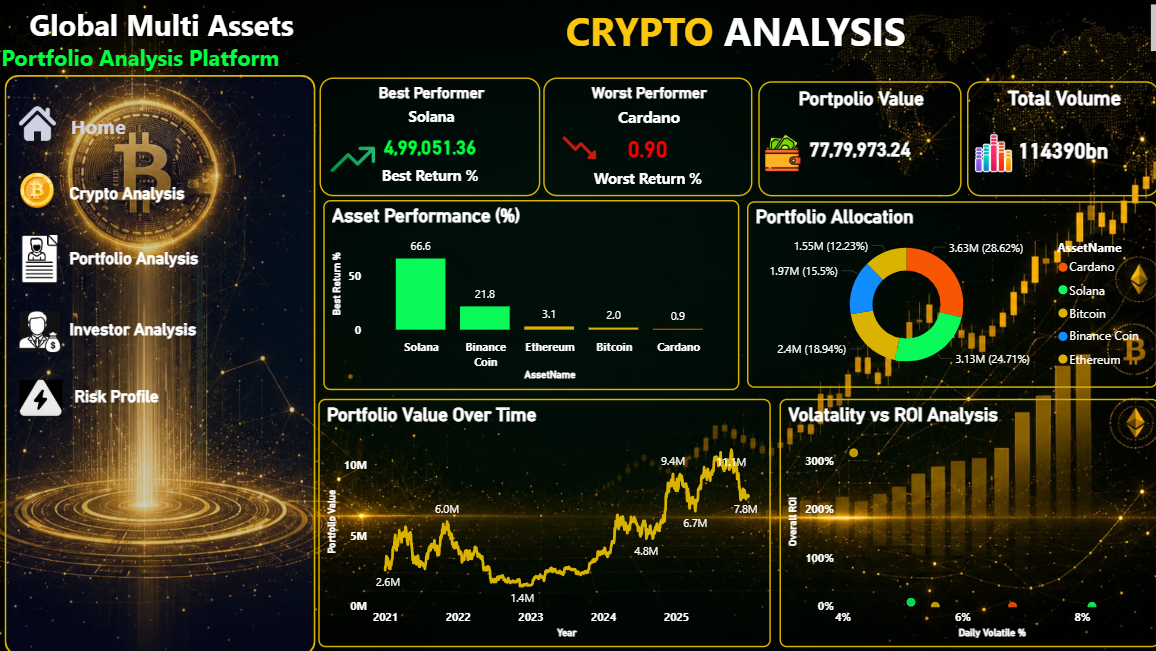

What the dashboard file says about the page in this screenshot:
{"tool":"powerbi","page":{"name":"Crypto Analysis ","canvas":[1280,720],"ordinal":2},"visuals":[{"type":"textbox","box":[0,0,370.4,115.8],"z":0},{"type":"image","box":[25.3,187,38.6,44.6],"z":0,"group":"g1"},{"type":"actionButton","title":"Portfolio Analysis","box":[80.8,273.9,159.3,24.1],"z":0,"group":"g2"},{"type":"actionButton","title":"Investor Analysis","box":[80.8,351.1,167.7,29],"z":0,"group":"g3"},{"type":"actionButton","title":"Risk Profile","box":[85.6,423.5,100.1,24.1],"z":0,"group":"g4"},{"type":"card","title":"Best Performer","fields":{"Values":["Measure.Best Return %"]},"box":[354,85.1,178.4,134.5],"z":1000,"group":"g5"},{"type":"image","box":[19.2,115.3,50.8,41.2],"z":1000},{"type":"actionButton","title":"Crypto Analysis","box":[80.8,201.5,127.9,29],"z":1000,"group":"g1"},{"type":"image","box":[25.3,258.2,44.6,53.1],"z":1000,"group":"g2"},{"type":"image","box":[25.3,331.8,44.6,63.9],"z":1000,"group":"g3"},{"type":"image","box":[25.3,409,47.1,56.7],"z":1000,"group":"g4"},{"type":"actionButton","box":[53.5,119.4,115.3,37],"z":2000},{"type":"shape","box":[8.4,83,341.4,637],"z":3000},{"type":"card","title":"Worst Performer","fields":{"Values":["Measure.Worst Return %"]},"box":[536.5,87.8,172.9,130.4],"z":3000,"group":"g5"},{"type":"group","id":"g1","title":"Group 1","box":[25.3,187,183.4,44.6],"z":4000},{"type":"card","title":"Portpolio Value","fields":{"Values":["Measure.Portfolio Value"]},"box":[714.9,87.8,189.4,127.6],"z":5000,"group":"g5"},{"type":"group","id":"g2","title":"Group 2","box":[25.3,258.2,214.7,53.1],"z":5000},{"type":"card","title":"Total Volume","fields":{"Values":["Measure.Total Crypto Volume"]},"box":[909.7,87.8,181.1,127.6],"z":6000,"group":"g5"},{"type":"group","id":"g3","title":"Group 4","box":[25.3,331.8,223.2,63.9],"z":6000},{"type":"group","id":"g4","title":"Group 5","box":[25.3,409,160.5,56.7],"z":7000},{"type":"textbox","box":[349.9,0,930.2,63.9],"z":8000},{"type":"image","box":[358.1,160.5,28.8,41.2],"z":9000},{"type":"image","box":[536.5,138.6,50.8,43.9],"z":10000},{"type":"image","box":[912.5,150.9,45.3,34.3],"z":11000},{"type":"image","box":[724.5,148.2,32.9,34.3],"z":12000},{"type":"image","box":[1122.5,149.6,38.4,37],"z":13000},{"type":"group","id":"g5","title":"Group 3","box":[354,85.1,922.1,134.5],"z":14000},{"type":"group","id":"g6","title":"Group 6","box":[354,223.7,916.6,241.5],"z":15000},{"type":"columnChart","title":"Asset Performance(%)","fields":{"Y":["Measure.Return %"],"Category":["Dim_Assets.AssetName"]},"box":[354,223.7,451.5,241.5],"z":15000,"group":"g6"},{"type":"donutChart","title":"Portfolio Allocation","fields":{"Category":["Dim_Assets.AssetName"],"Y":["Measure.Total Investment"]},"box":[812.3,225.1,458.3,238.8],"z":16000,"group":"g6"},{"type":"lineChart","fields":{"Category":["Dim_Date.Date.Variation.Date Hierarchy.Year","Dim_Date.Date.Variation.Date Hierarchy.Quarter","Dim_Date.Date.Variation.Date Hierarchy.Month","Dim_Date.Date.Variation.Date Hierarchy.Day"],"Y":["Measure.Portfolio Value"]},"box":[355.4,473.4,403.4,236],"z":16000,"group":"g7"},{"type":"card","title":"Total Crypto","fields":{"Values":["Measure.Total Crypto Assets"]},"box":[1095,87.8,181.1,127.6],"z":17000,"group":"g5"},{"type":"scatterChart","title":"Volatile vs ROI Analysis","fields":{"X":["Measure.Daily Volatile %"],"Y":["Measure.Overall ROI"],"Size":["CountNonNull(Dim_Assets.AssetName)"],"Series":["Dim_Assets.AssetName"]},"box":[765.7,472,506.3,236],"z":17000,"group":"g7"},{"type":"group","id":"g7","title":"Group 7","box":[355.4,472,916.6,237.4],"z":17001}]}

Visuals, with their boxes in screenshot pixels (x1, y1, x2, y2), scaled from the page's 1280x720 canvas onto the 1156x651 screenshot:
textbox: x1=0, y1=0, x2=335, y2=105
image: x1=23, y1=169, x2=58, y2=209
"Portfolio Analysis" actionButton: x1=73, y1=248, x2=217, y2=269
"Investor Analysis" actionButton: x1=73, y1=317, x2=224, y2=344
"Risk Profile" actionButton: x1=77, y1=383, x2=168, y2=405
"Best Performer" card: x1=320, y1=77, x2=481, y2=199
image: x1=17, y1=104, x2=63, y2=142
"Crypto Analysis" actionButton: x1=73, y1=182, x2=188, y2=208
image: x1=23, y1=233, x2=63, y2=281
image: x1=23, y1=300, x2=63, y2=358
image: x1=23, y1=370, x2=65, y2=421
actionButton: x1=48, y1=108, x2=152, y2=141
shape: x1=8, y1=75, x2=316, y2=650
"Worst Performer" card: x1=485, y1=79, x2=641, y2=197
"Group 1" group: x1=23, y1=169, x2=188, y2=209
"Portpolio Value" card: x1=646, y1=79, x2=817, y2=195
"Group 2" group: x1=23, y1=233, x2=217, y2=281
"Total Volume" card: x1=822, y1=79, x2=985, y2=195
"Group 4" group: x1=23, y1=300, x2=224, y2=358
"Group 5" group: x1=23, y1=370, x2=168, y2=421
textbox: x1=316, y1=0, x2=1155, y2=58
image: x1=323, y1=145, x2=349, y2=182
image: x1=485, y1=125, x2=530, y2=165
image: x1=824, y1=136, x2=865, y2=167
image: x1=654, y1=134, x2=684, y2=165
image: x1=1014, y1=135, x2=1048, y2=169
"Group 3" group: x1=320, y1=77, x2=1152, y2=199
"Group 6" group: x1=320, y1=202, x2=1148, y2=421
"Asset Performance(%)" columnChart: x1=320, y1=202, x2=727, y2=421
"Portfolio Allocation" donutChart: x1=734, y1=204, x2=1148, y2=419
lineChart - Dim_Date.Date.Variation.Date Hierarchy.Year x Dim_Date.Date.Variation.Date Hierarchy.Quarter: x1=321, y1=428, x2=685, y2=641
"Total Crypto" card: x1=989, y1=79, x2=1152, y2=195
"Volatile vs ROI Analysis" scatterChart: x1=692, y1=427, x2=1149, y2=640
"Group 7" group: x1=321, y1=427, x2=1149, y2=641
